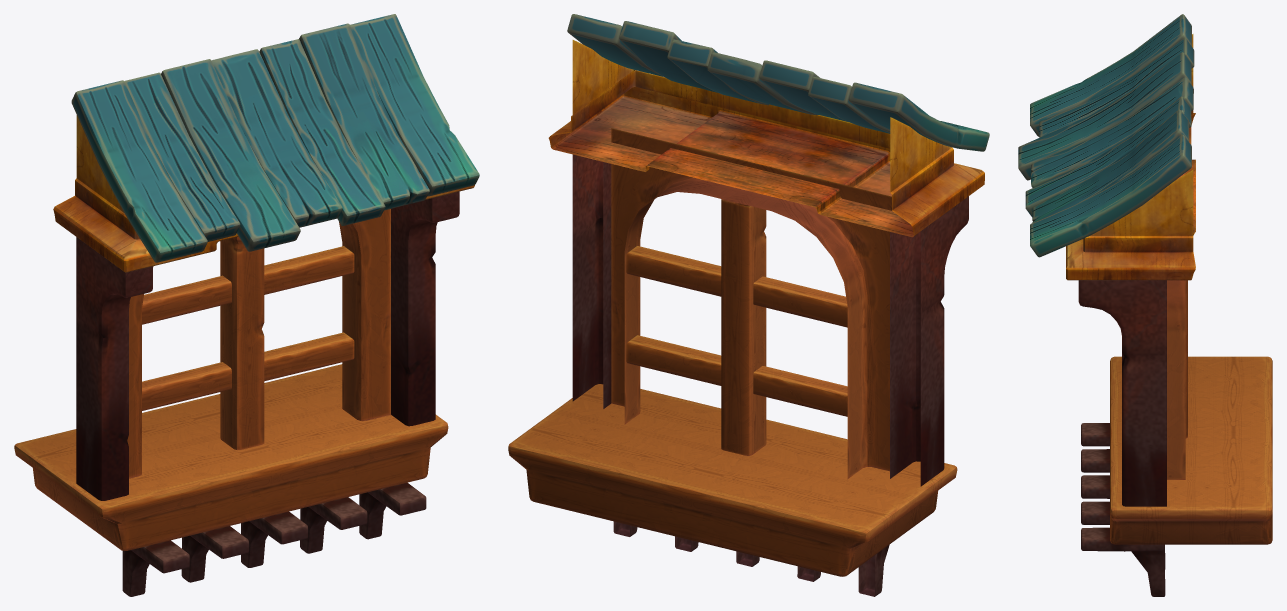
The model's file is SM_BigWall_WoodWindowB.glb.
3 views of the same model, side by side, from view 1: azimuth 30°, elevation 25°; view 2: azimuth 150°, elevation 25°; view 3: azimuth 270°, elevation 25° (orthographic). The views are drawn at different scales.
Visible parts, largest first — view 1: SM_BigWall_WoodWindowB_LOD0; view 2: SM_BigWall_WoodWindowB_LOD0; view 3: SM_BigWall_WoodWindowB_LOD0.
Part boxes in pixels (x1,y1,x2,y2): SM_BigWall_WoodWindowB_LOD0: (14, 14, 479, 596); SM_BigWall_WoodWindowB_LOD0: (508, 14, 989, 596); SM_BigWall_WoodWindowB_LOD0: (1018, 14, 1272, 596).
Size of the model in its own units: 1.51 by 2.09 by 1.05.
Materials: 2 (2 with a texture image).
